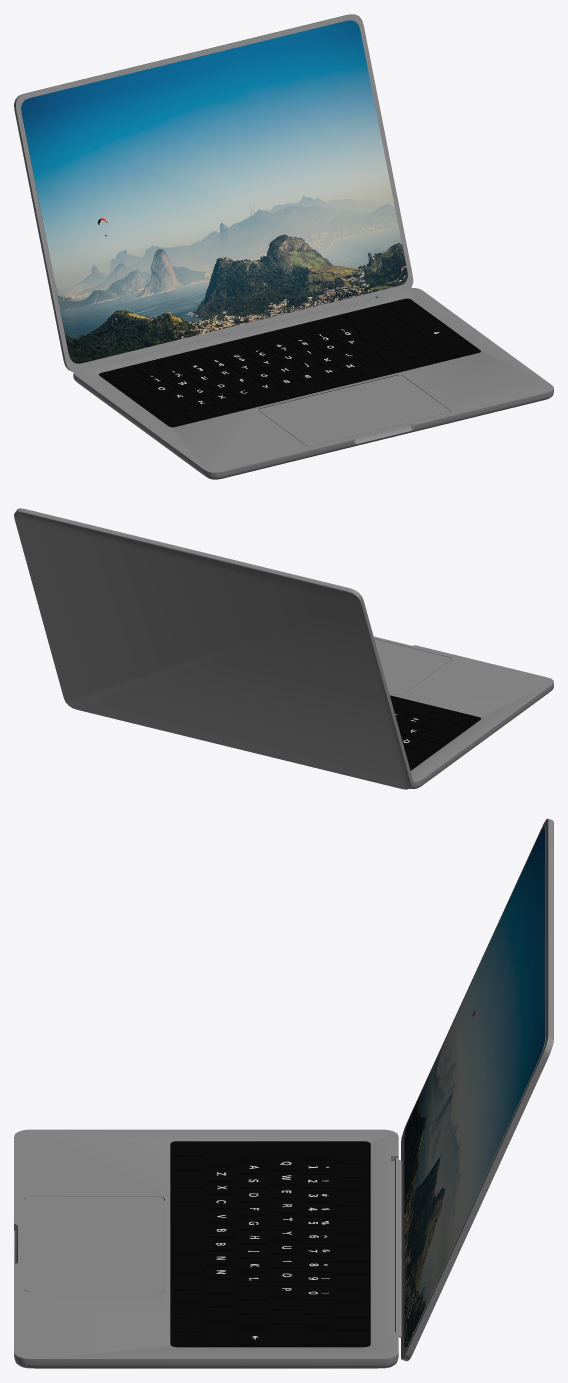
Rendered from Laptop.fbx.
The picture shows the model from 3 angles, top to bottom: view 1: azimuth 30°, elevation 25°; view 2: azimuth 150°, elevation 25°; view 3: azimuth 270°, elevation 25°; orthographic projection. The views are drawn at different scales.
Parts seen in each view (by area): view 1: screen, body, botton, screen_body; view 2: screen_body, body, botton; view 3: body, botton, screen, screen_body.
Boxes of the visible parts, bbox=[...] form: screen: bbox=[21, 20, 407, 363]; body: bbox=[73, 287, 553, 479]; botton: bbox=[103, 300, 475, 425]; screen_body: bbox=[14, 14, 413, 371]; screen_body: bbox=[14, 508, 413, 789]; body: bbox=[374, 636, 553, 788]; botton: bbox=[390, 697, 475, 767]; body: bbox=[14, 1129, 398, 1368]; botton: bbox=[174, 1144, 367, 1344]; screen: bbox=[404, 827, 545, 1348]; screen_body: bbox=[395, 818, 553, 1361].
Size of the model in its own units: 30.37 by 20.37 by 30.19.
